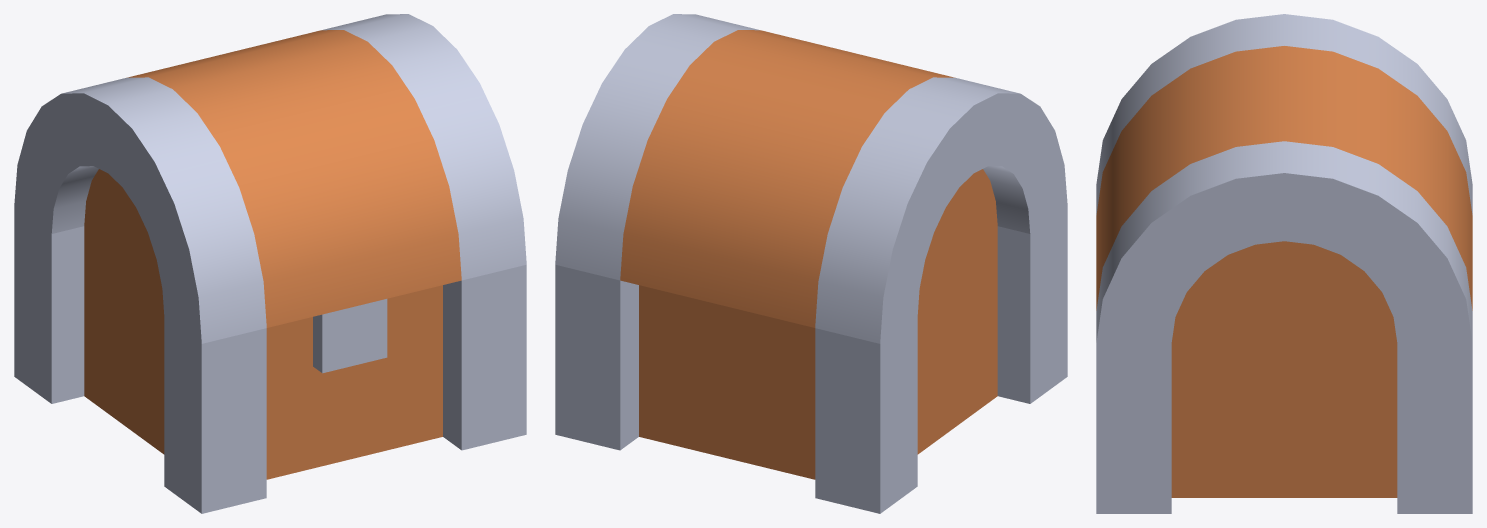
The model's file is chest.obj.
The picture shows the model from 3 angles, left to right: view 1: azimuth 30°, elevation 25°; view 2: azimuth 150°, elevation 25°; view 3: azimuth 270°, elevation 25°; orthographic projection.
Parts seen in each view (by area): view 1: lid, chest; view 2: lid, chest; view 3: lid, chest.
Part boxes in pixels (x1,y1,x2,y2): lid: (14, 14, 526, 343); chest: (14, 207, 526, 513); lid: (555, 14, 1067, 343); chest: (555, 207, 1067, 513); lid: (1096, 14, 1472, 343); chest: (1096, 327, 1472, 513).
Bounding box in the file's own units: 0.5 × 0.5 × 0.5.
